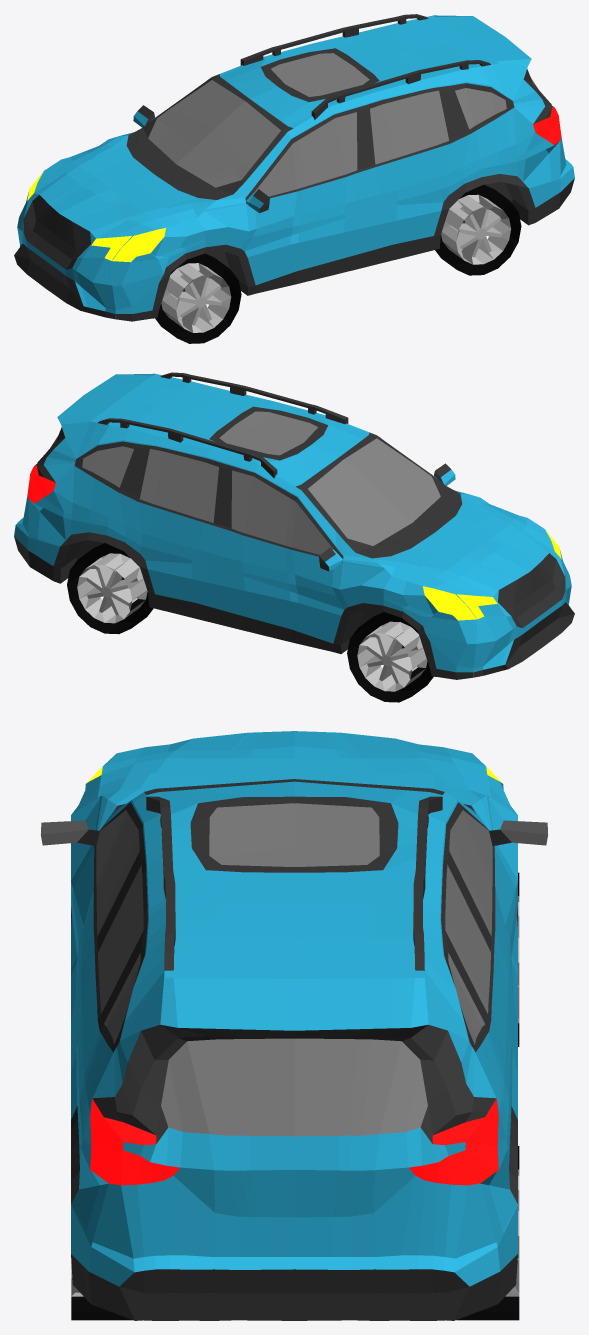
The model's file is subaru_forester.glb.
The picture shows the model from 3 angles, top to bottom: view 1: azimuth 30°, elevation 25°; view 2: azimuth 150°, elevation 25°; view 3: azimuth 270°, elevation 25°; orthographic projection. The views are drawn at different scales.
Parts seen in each view (by area): view 1: Car, Wheel, Wheel.002; view 2: Car, Wheel.001, Wheel.003; view 3: Car, Wheel.003, Wheel.002.
Part boxes in pixels (x1,y1,x2,y2): Car: (14,14,574,321); Wheel: (155,253,241,343); Wheel.002: (435,184,521,275); Car: (14,372,574,679); Wheel.001: (347,612,433,702); Wheel.003: (67,543,153,634); Car: (40,731,548,1320); Wheel.003: (456,1146,519,1320); Wheel.002: (71,1264,132,1320).
Size of the model in its own units: 4.62 by 1.77 by 2.08.
